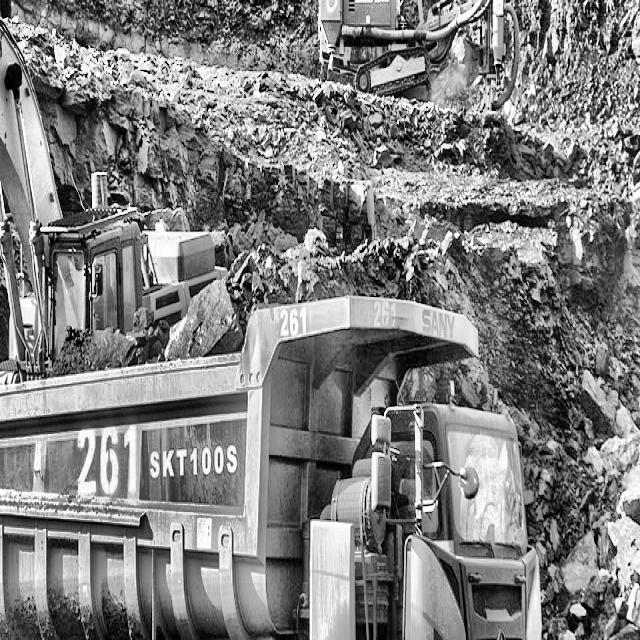dump_truck: (0, 222, 535, 640)
excavator: (0, 0, 193, 466)
